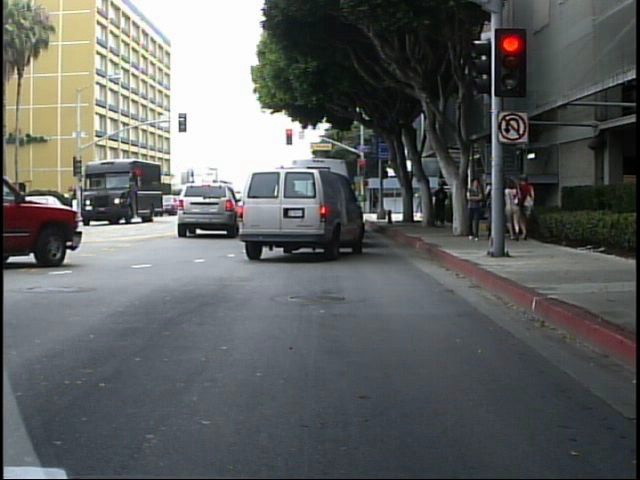person: (518, 171, 541, 245), (503, 170, 525, 245), (467, 175, 487, 242), (432, 175, 452, 230), (412, 185, 424, 217)
